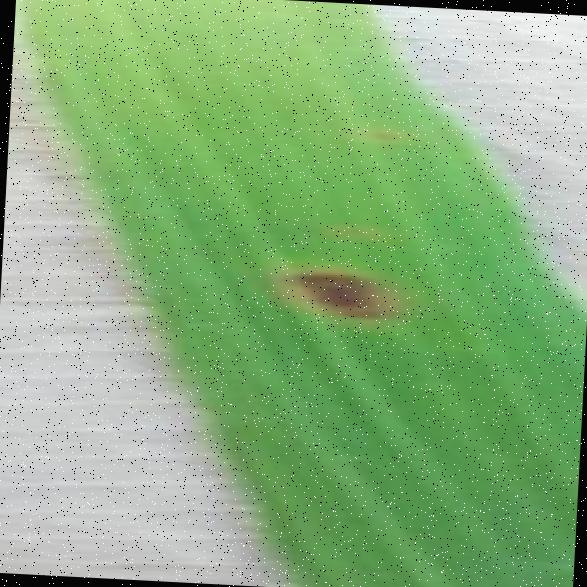Brown_Spot: (266, 247, 398, 330)
